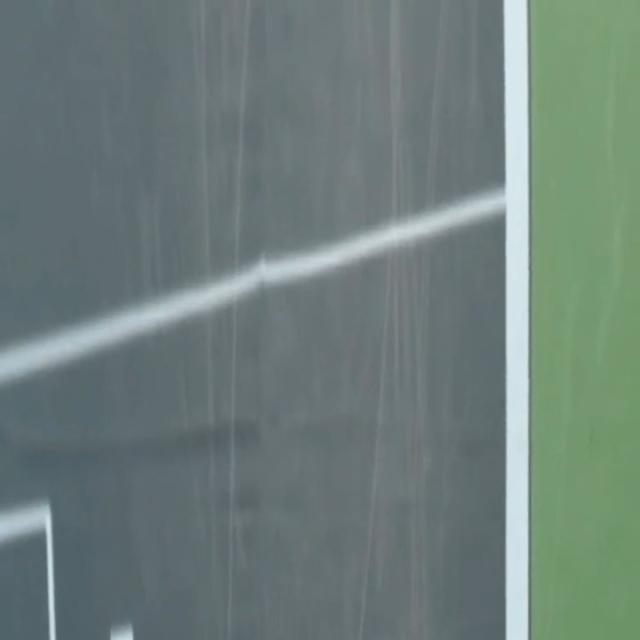center: (109, 623, 133, 639)
right: (503, 0, 529, 639)
